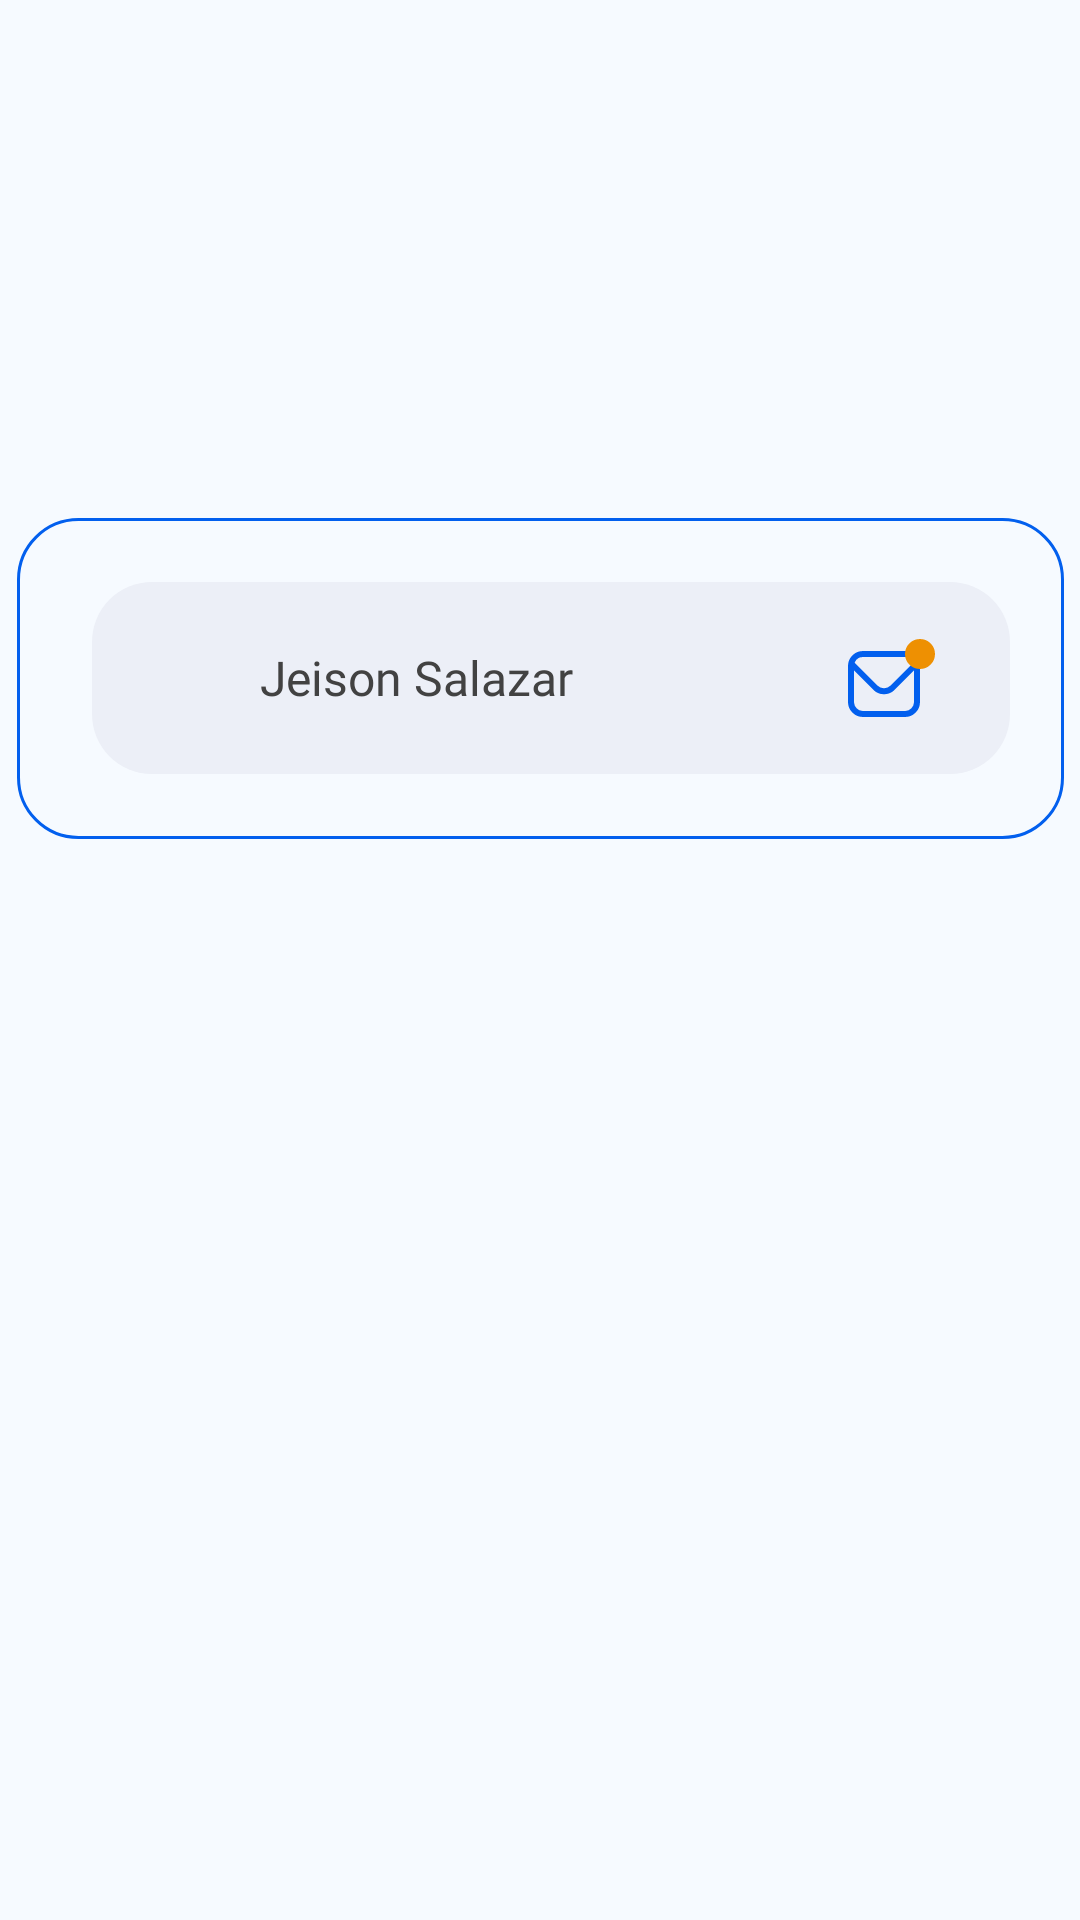

Screen size 1080w x 1920h. Icon name, then its box in pixels as detection(x1, y1, x2, y2):
sobrenoti: detection(848, 639, 935, 717)
